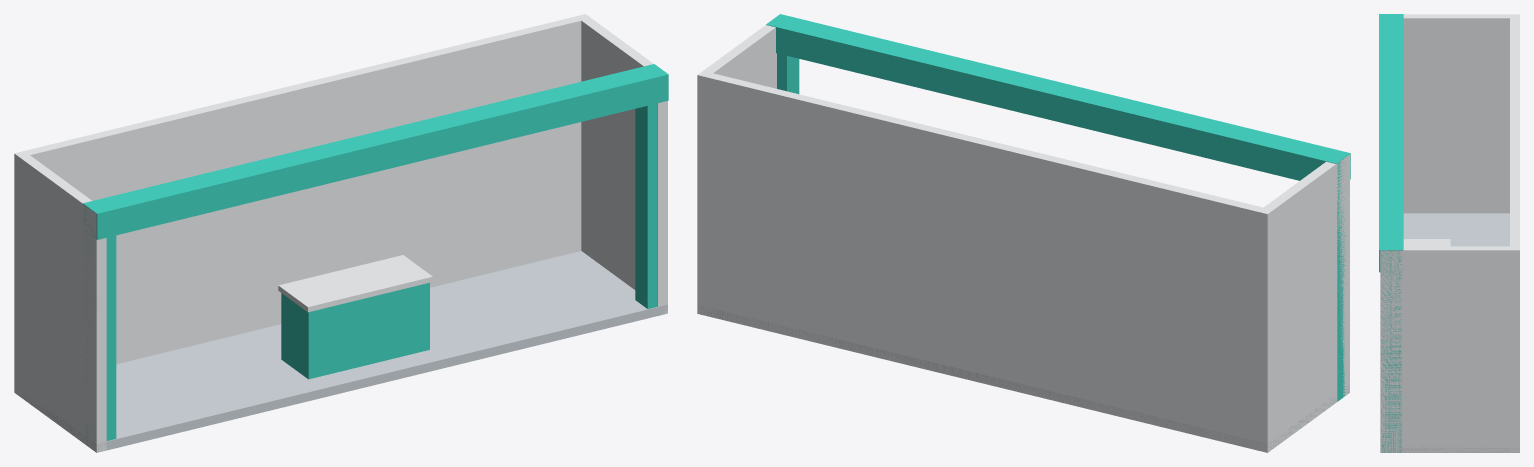
The picture shows the model from 3 angles, left to right: view 1: azimuth 30°, elevation 25°; view 2: azimuth 150°, elevation 25°; view 3: azimuth 270°, elevation 25°; orthographic projection. The views are drawn at different scales.
Parts seen in each view (by area): view 1: Exhibition Booth Concept; view 2: Exhibition Booth Concept; view 3: Exhibition Booth Concept.
Part boxes in pixels (x1=…): Exhibition Booth Concept: x1=14, y1=14, x2=668, y2=452; Exhibition Booth Concept: x1=697, y1=14, x2=1350, y2=452; Exhibition Booth Concept: x1=1379, y1=14, x2=1519, y2=452.
Size of the model in its own units: 8 by 3.2 by 2.01.
